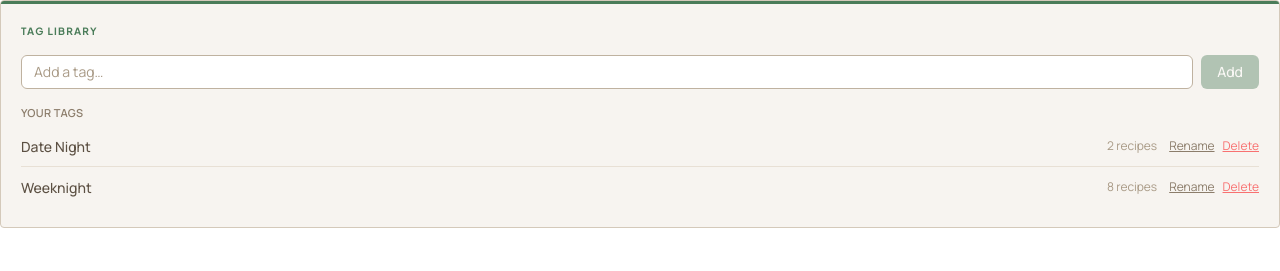
Test: Spec-19 T6 - renaming to an already-existing name is rejected › shows error when new name matches an existing custom tag
The image size is (1280, 271).
Click the button "Rename" next to "2 recipes": (1192, 146) [1169,138,1214,154]
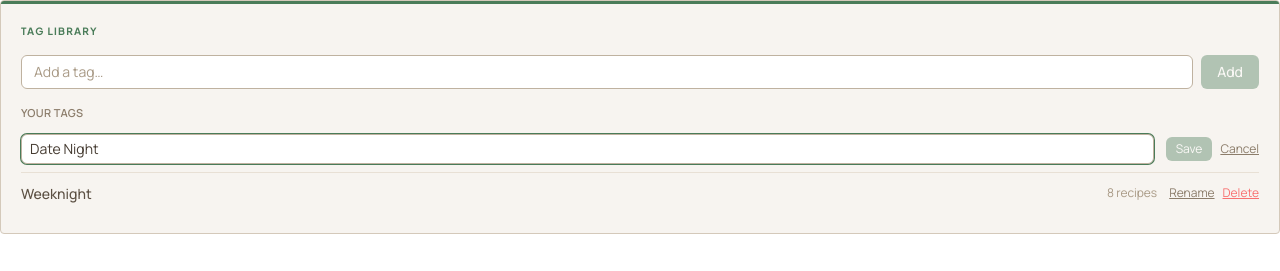
Replace the text in the field showing "Date Night" with "Weeknight": (587, 148) [21,134,1154,164]
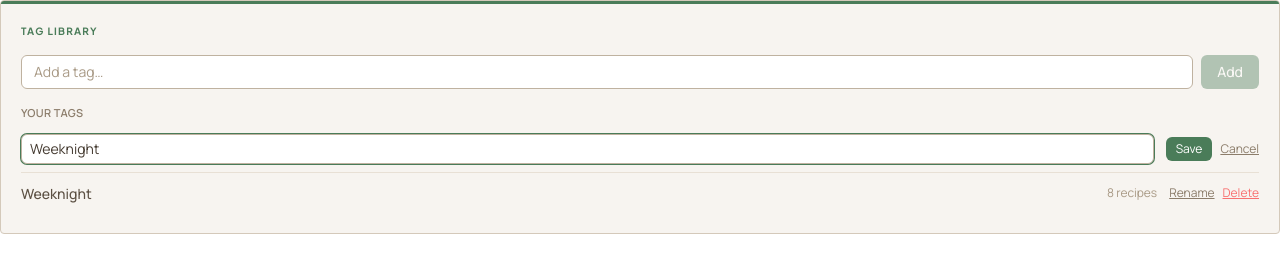
Click the button "Save": (1189, 148) [1166,136,1212,160]
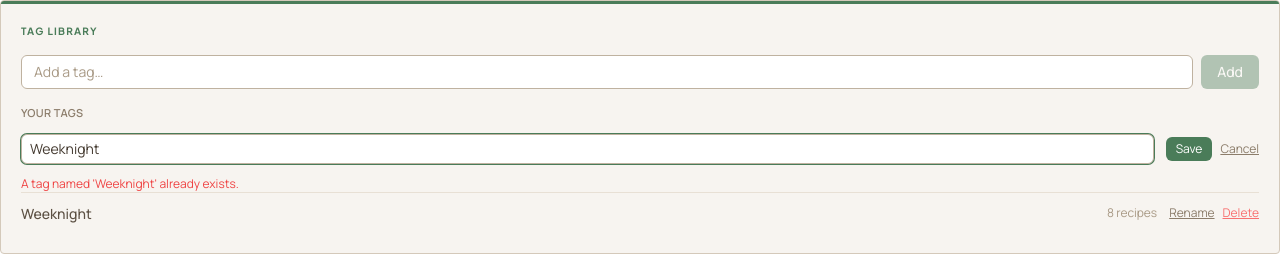
Check: the text "A tag named 'Weeknight' already exists." is shown, box [21,174,239,192]
